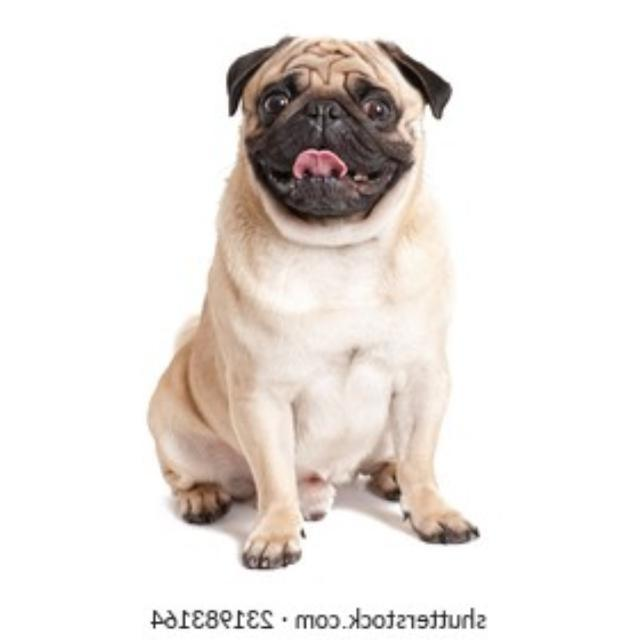dog: (134, 28, 498, 578)
